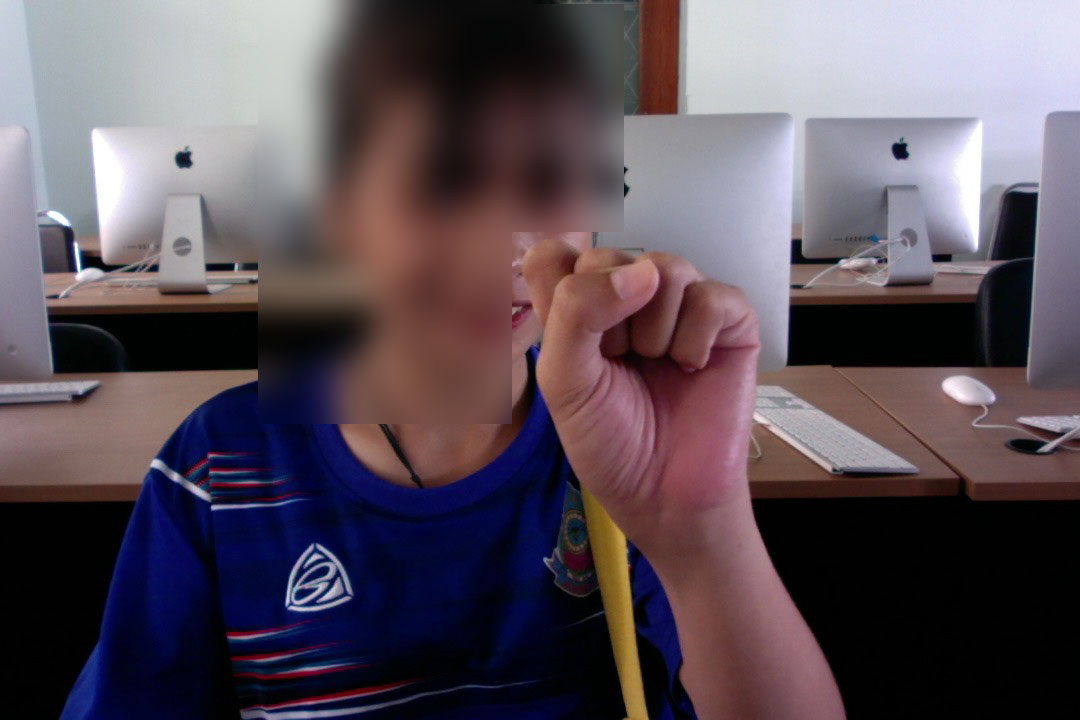sor: (511, 230, 769, 580)
